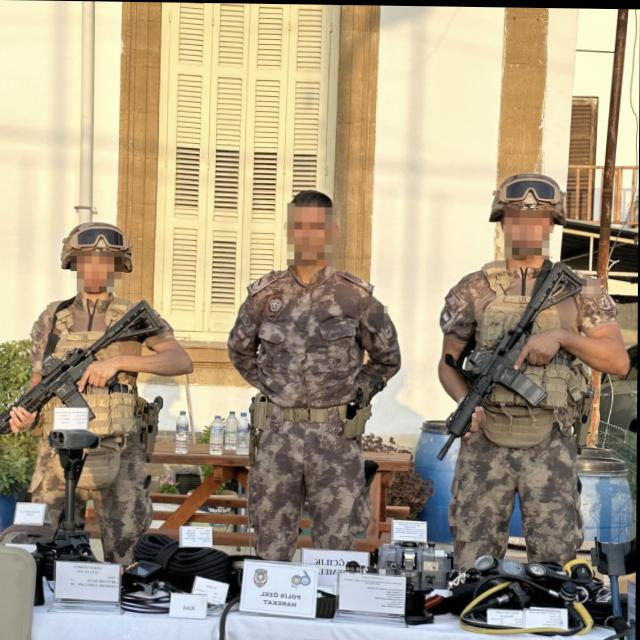poh_personel: (436, 170, 631, 577), (228, 188, 401, 564), (10, 222, 195, 572)
